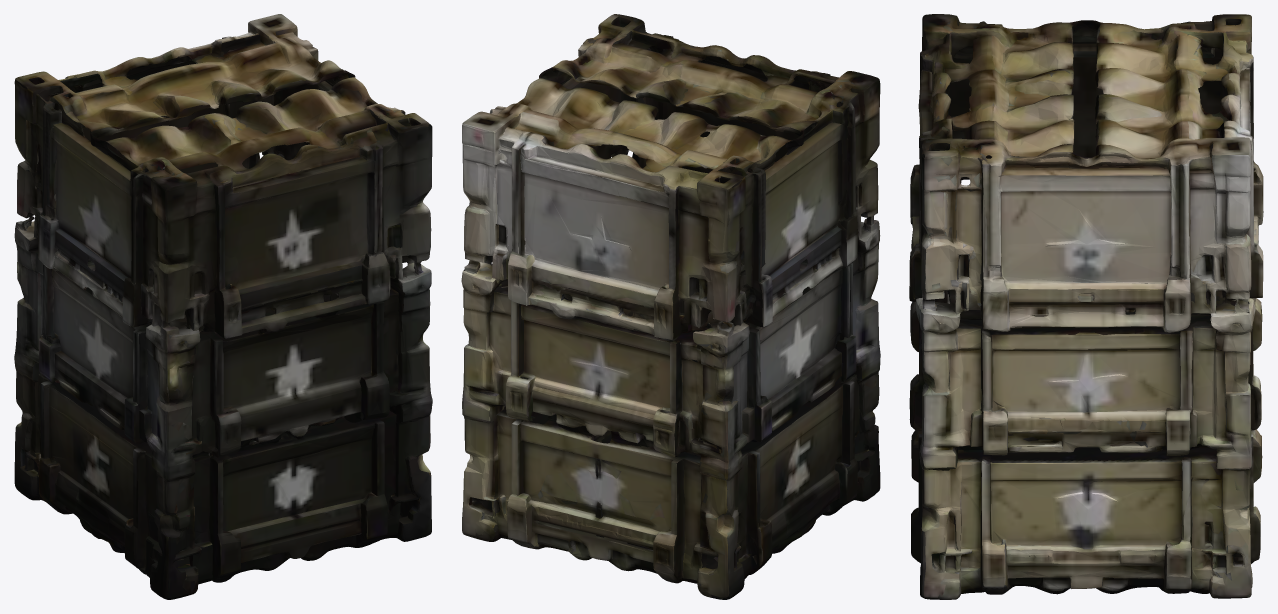
The model's file is prop_hangar_crate.glb.
3 renders of one model, left to right at view 1: azimuth 30°, elevation 25°; view 2: azimuth 150°, elevation 25°; view 3: azimuth 270°, elevation 25°, orthographic. The views are drawn at different scales.
Parts seen in each view (by area): view 1: geometry_0; view 2: geometry_0; view 3: geometry_0.
Part boxes in pixels (box(x1,y1,x2,y2)): geometry_0: box(14, 14, 432, 599); geometry_0: box(461, 14, 880, 599); geometry_0: box(909, 14, 1263, 599).
Bounding box in the file's own units: 0.7024 × 0.9996 × 0.715.
1 material, 1 textured.
